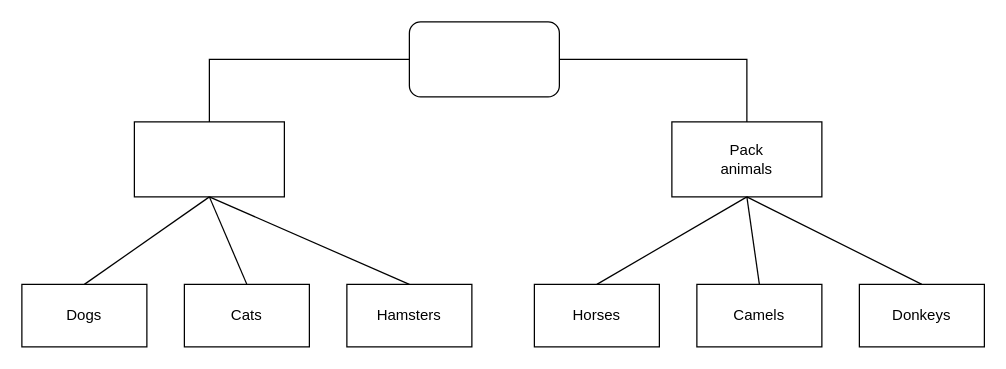
Image size: 1006x369. Some labels were removed from this diagram. The shapes that lost their labels are listed below. From the top down, each one's centre as x and y in pixels, then its label:
(483,59): Аnimals
(208,159): Pets
